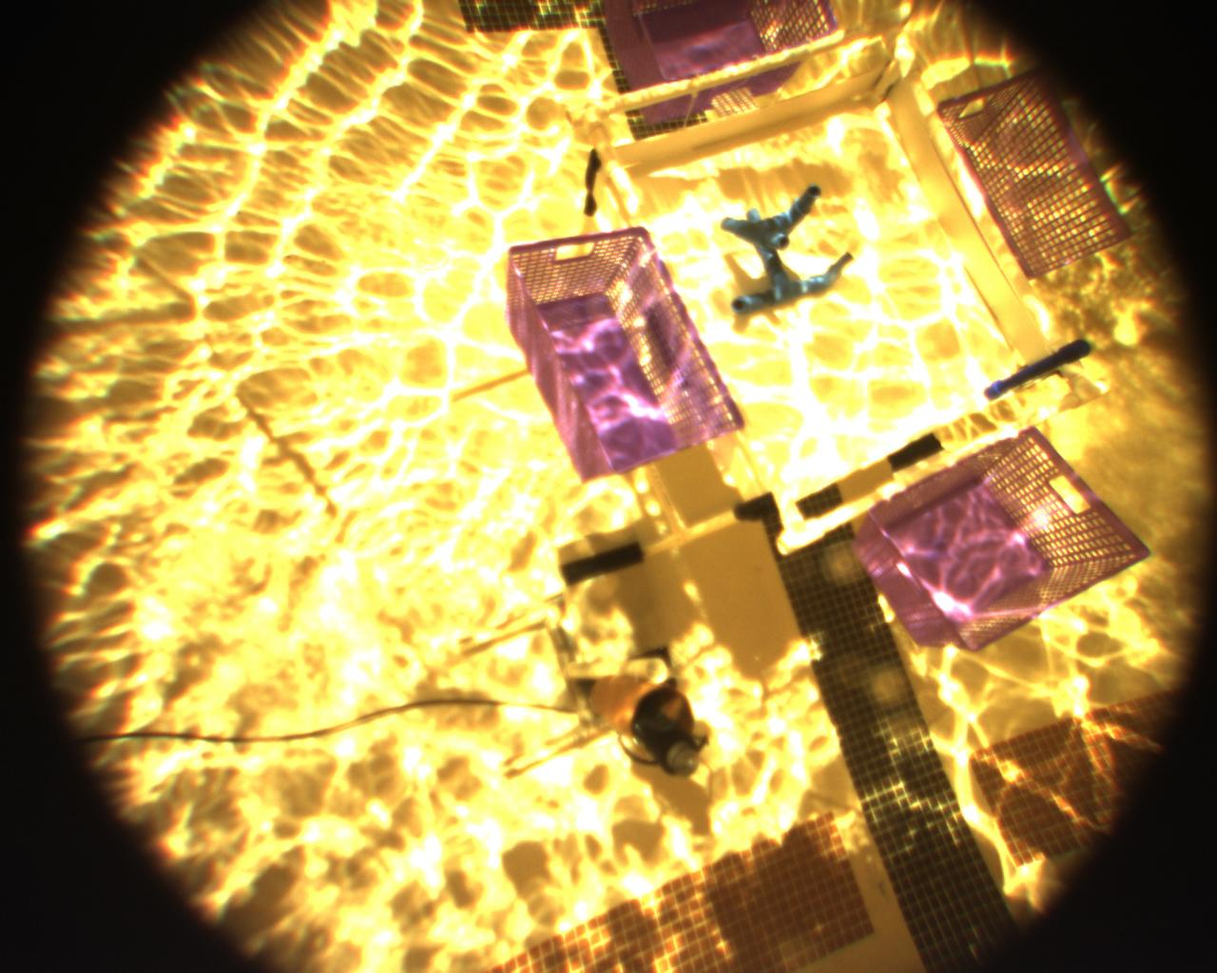coral: (698, 188, 859, 312)
coral-box-top: (546, 4, 1099, 532)
